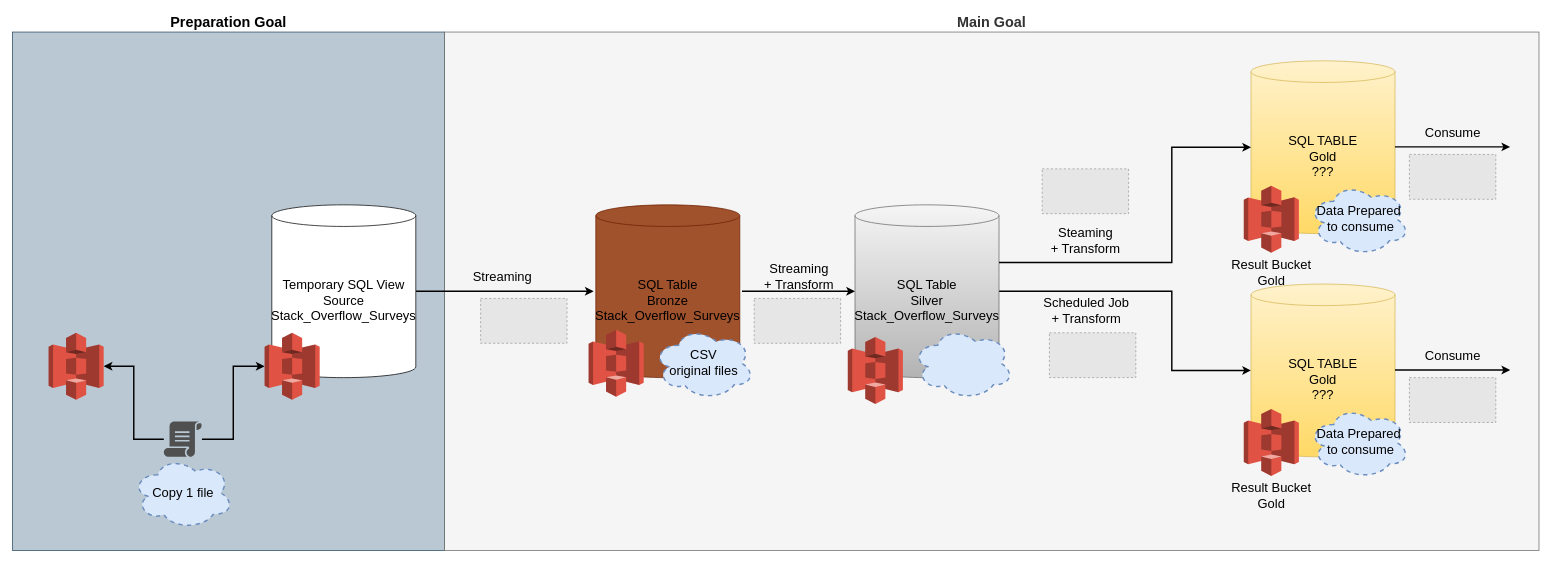
The diagram is 1552 pixels wide and 563 high, and some of its shapes have lost their labels. Grey dashed boxes stand in for pictures. The shapes that lost their labels are listed below. From the top down, each one's box as (x1, y1, x2, y2) in pixels, then its label:
(48, 332, 104, 400): Test Data
(264, 332, 320, 400): Result Bucket Source
(588, 329, 644, 397): Result Bucket Bronze
(847, 336, 903, 404): Result Bucket Silver
(912, 326, 1014, 400): Delta format
(163, 421, 202, 456): Custom Script
